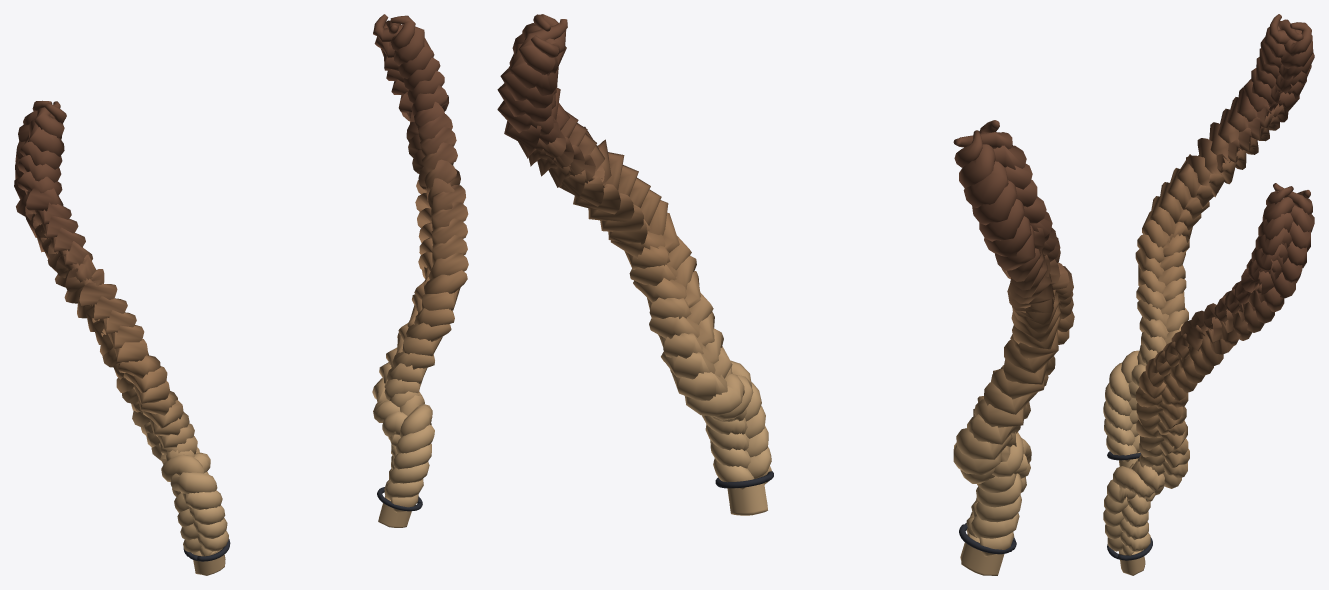
Rendered from Ombre-4a8e6b11dd5d253-hair.glb.
The picture shows the model from 3 angles, left to right: view 1: azimuth 30°, elevation 25°; view 2: azimuth 150°, elevation 25°; view 3: azimuth 270°, elevation 25°; orthographic projection. The views are drawn at different scales.
Visible parts, largest first — view 1: 226 hairLengths / Hair / chestnut226, 226 hairLengths / Hair / ties226; view 2: 226 hairLengths / Hair / chestnut226, 226 hairLengths / Hair / ties226; view 3: 226 hairLengths / Hair / chestnut226, 226 hairLengths / Hair / ties226.
Boxes of the visible parts, x1=… form: 226 hairLengths / Hair / chestnut226: x1=14, y1=14, x2=468, y2=575; 226 hairLengths / Hair / ties226: x1=183, y1=487, x2=422, y2=561; 226 hairLengths / Hair / chestnut226: x1=497, y1=14, x2=1074, y2=575; 226 hairLengths / Hair / ties226: x1=715, y1=471, x2=1016, y2=554; 226 hairLengths / Hair / chestnut226: x1=1103, y1=14, x2=1314, y2=575; 226 hairLengths / Hair / ties226: x1=1107, y1=451, x2=1152, y2=560.
Bounding box in the file's own units: 1.09 × 1.05 × 0.4747.
2 materials, 1 textured.
